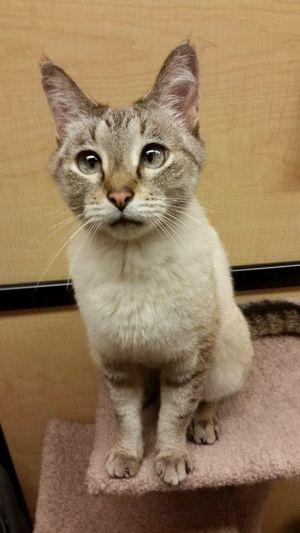bengal: (28, 36, 230, 258)
